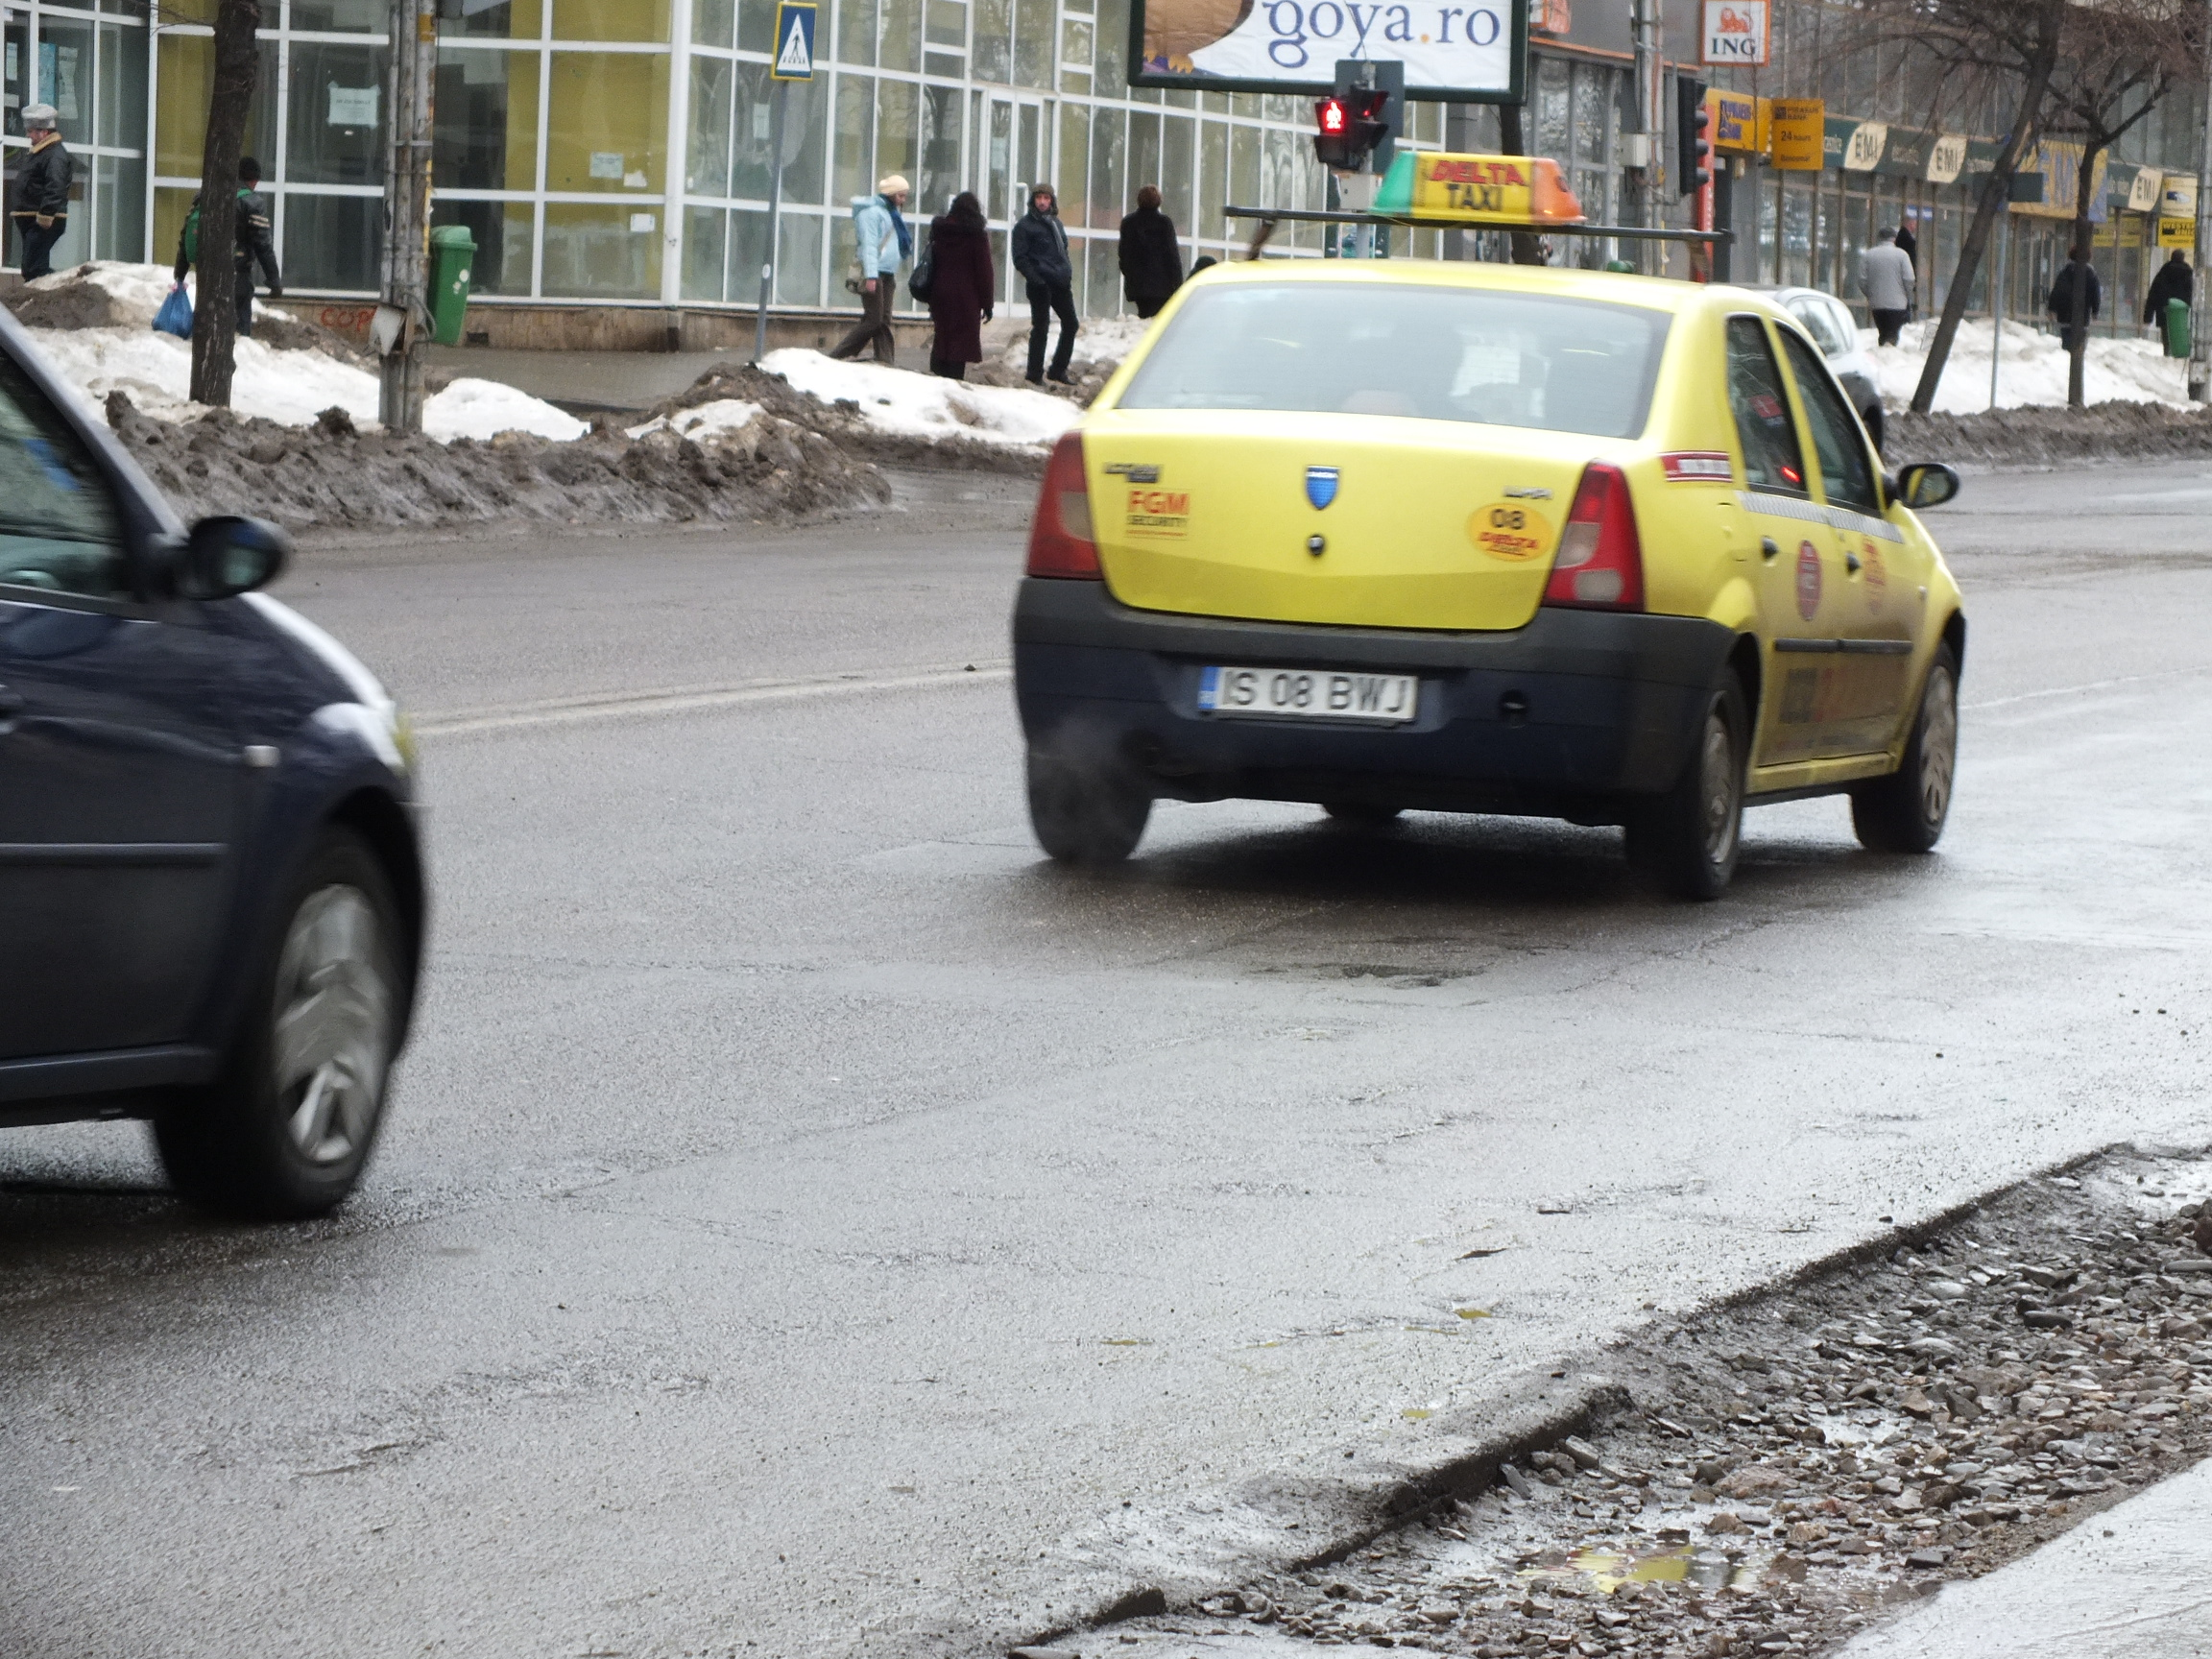IS08BWJ: (1193, 669, 1409, 714)
